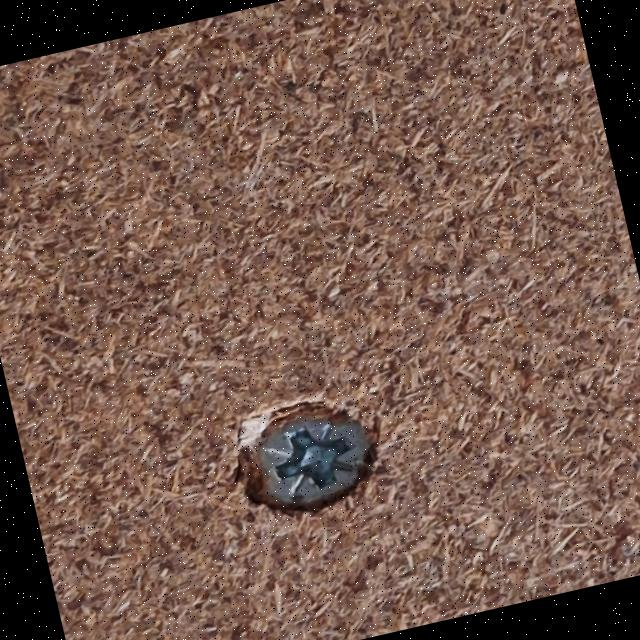Pozidriv: (235, 406, 389, 526)
